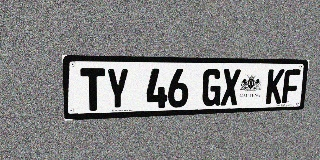4: (146, 68, 168, 109)
6: (168, 69, 189, 108)
F: (282, 69, 301, 103)
G: (201, 69, 222, 106)
K: (265, 69, 285, 104)
T: (80, 68, 105, 111)
X: (220, 69, 241, 106)
Y: (106, 68, 129, 110)
